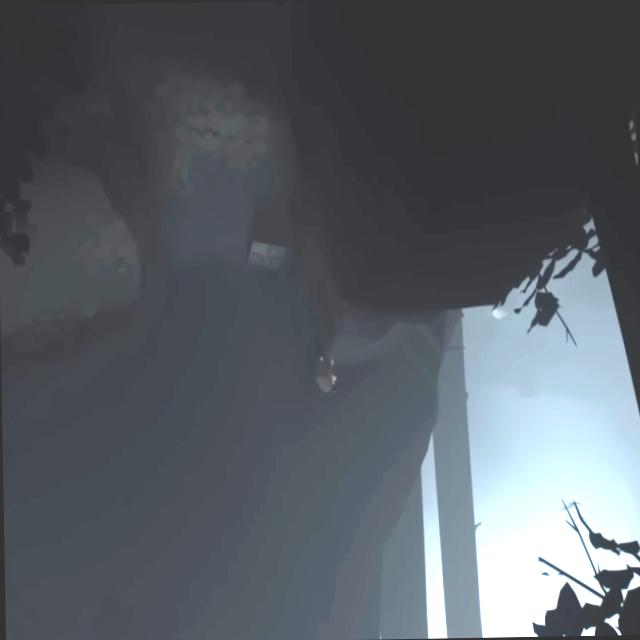boy: (314, 352, 337, 393)
